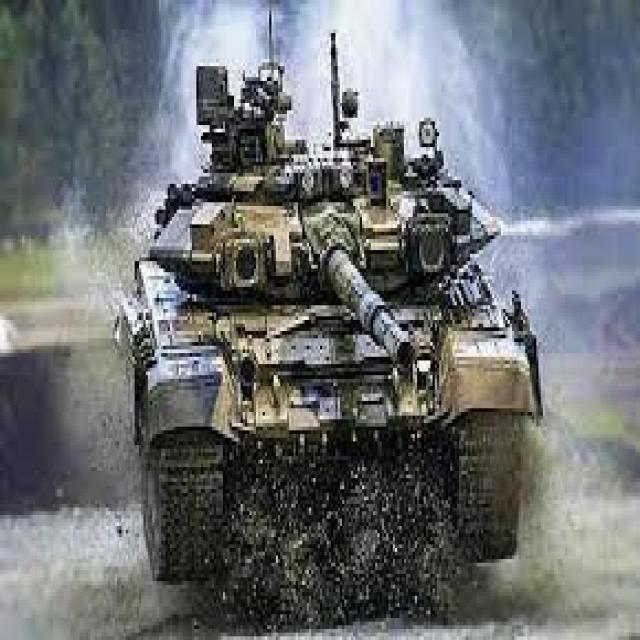Tanks: (135, 97, 530, 572)
